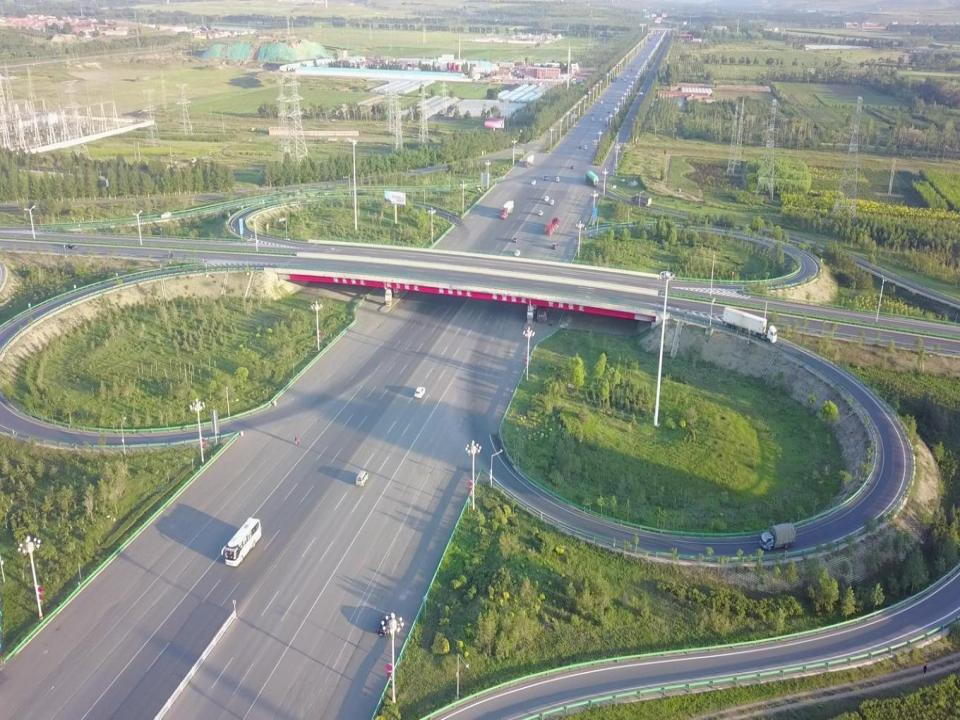car: (377, 613, 393, 635), (159, 212, 171, 218), (64, 244, 77, 249), (513, 237, 519, 243), (515, 249, 520, 256), (598, 118, 602, 121), (591, 118, 594, 121), (607, 110, 610, 113), (600, 100, 603, 103), (598, 106, 602, 108), (618, 82, 620, 86), (591, 113, 593, 116), (604, 106, 606, 108), (624, 79, 626, 81)
truck: (722, 306, 777, 342), (760, 522, 796, 550), (536, 299, 550, 323), (544, 216, 560, 236), (500, 200, 514, 220), (585, 170, 599, 187), (523, 154, 534, 168), (604, 117, 610, 126), (621, 75, 624, 80)
van: (221, 518, 261, 566), (356, 470, 368, 486), (414, 387, 425, 398), (552, 243, 558, 248), (538, 210, 543, 215), (544, 196, 549, 201), (550, 200, 554, 205), (544, 175, 548, 180), (556, 177, 560, 182), (532, 180, 536, 184), (570, 165, 574, 169), (578, 145, 582, 148), (590, 115, 594, 118), (584, 145, 586, 149), (626, 74, 628, 78), (605, 100, 608, 102), (612, 100, 614, 103), (631, 118, 633, 121)
